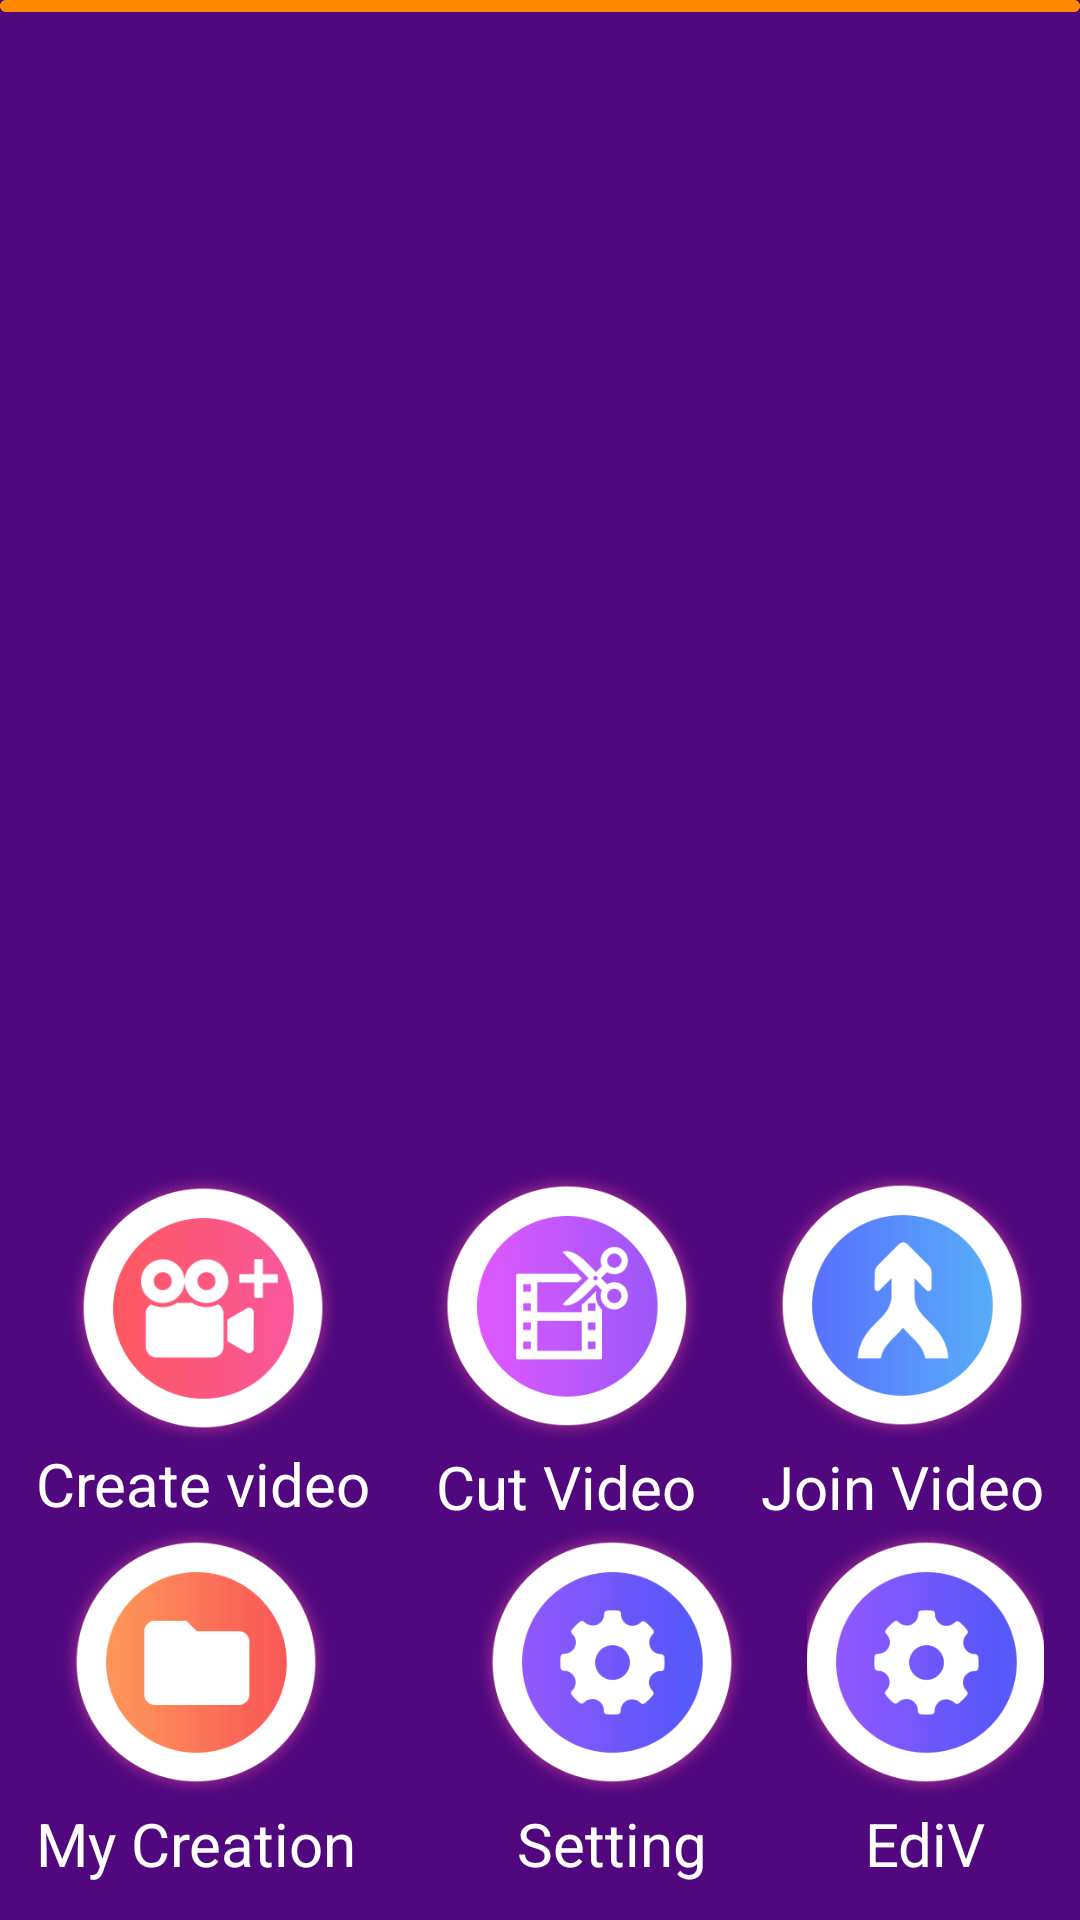

Icons on this 1080x1920 Android screen, each with its box as (x1, y1, x2, y2):
file: (72, 1538, 320, 1786)
